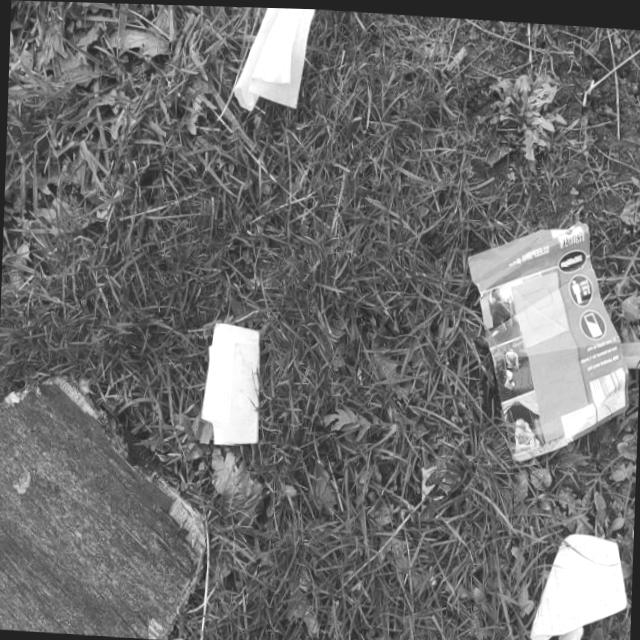Paper: (530, 527, 630, 640), (232, 5, 315, 113), (537, 617, 584, 640)
Plastic: (459, 209, 636, 467)
